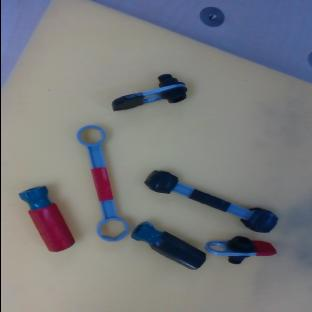part_1_bad: (107, 72, 188, 112)
part_1_good: (203, 231, 276, 269)
part_2_bad: (128, 218, 207, 275)
part_2_good: (18, 181, 75, 257)
part_3_bad: (141, 166, 278, 238)
part_3_good: (70, 122, 130, 246)
